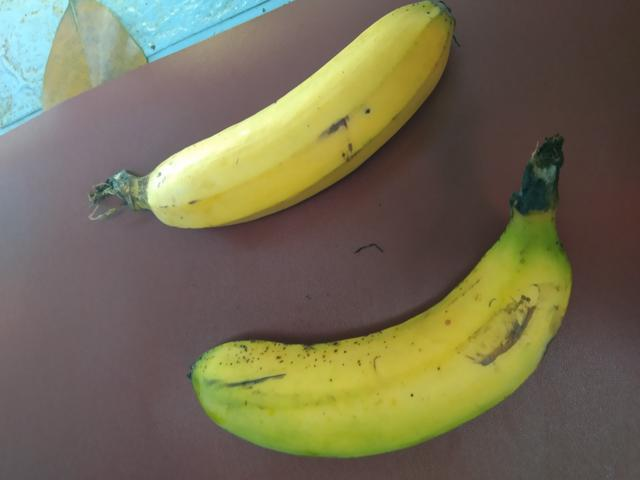freshripe: (85, 8, 462, 265)
ripe: (193, 258, 614, 476)
